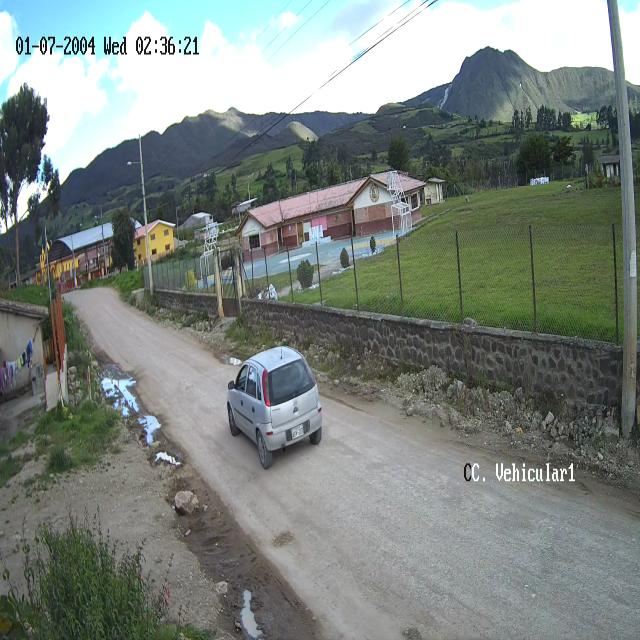SED: (226, 348, 323, 470)
